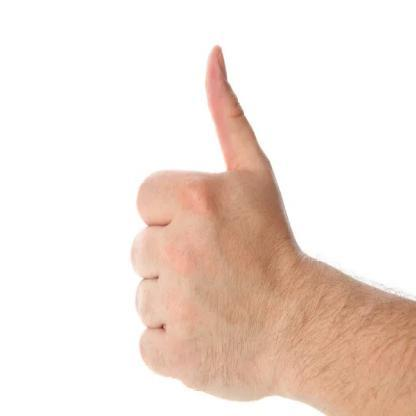thumb_up: (127, 39, 290, 404)
